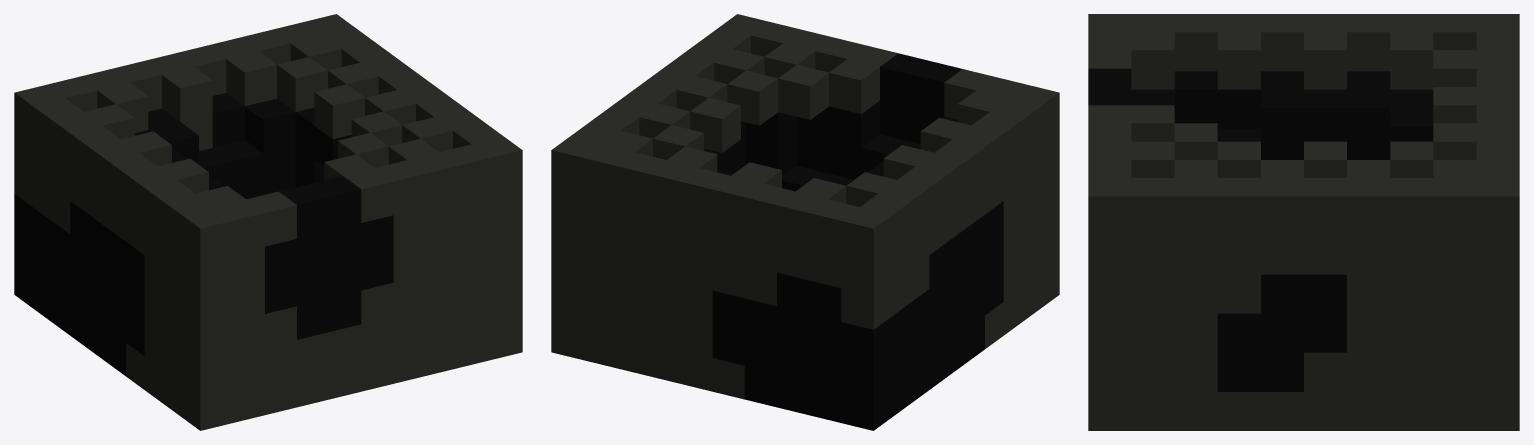
File: trapdoor (broken).obj
3 renders of one model, left to right at view 1: azimuth 30°, elevation 25°; view 2: azimuth 150°, elevation 25°; view 3: azimuth 270°, elevation 25°, orthographic. The views are drawn at different scales.
Size of the model in its own units: 1 by 0.6 by 1.
Materials: 1 (1 with a texture image).
